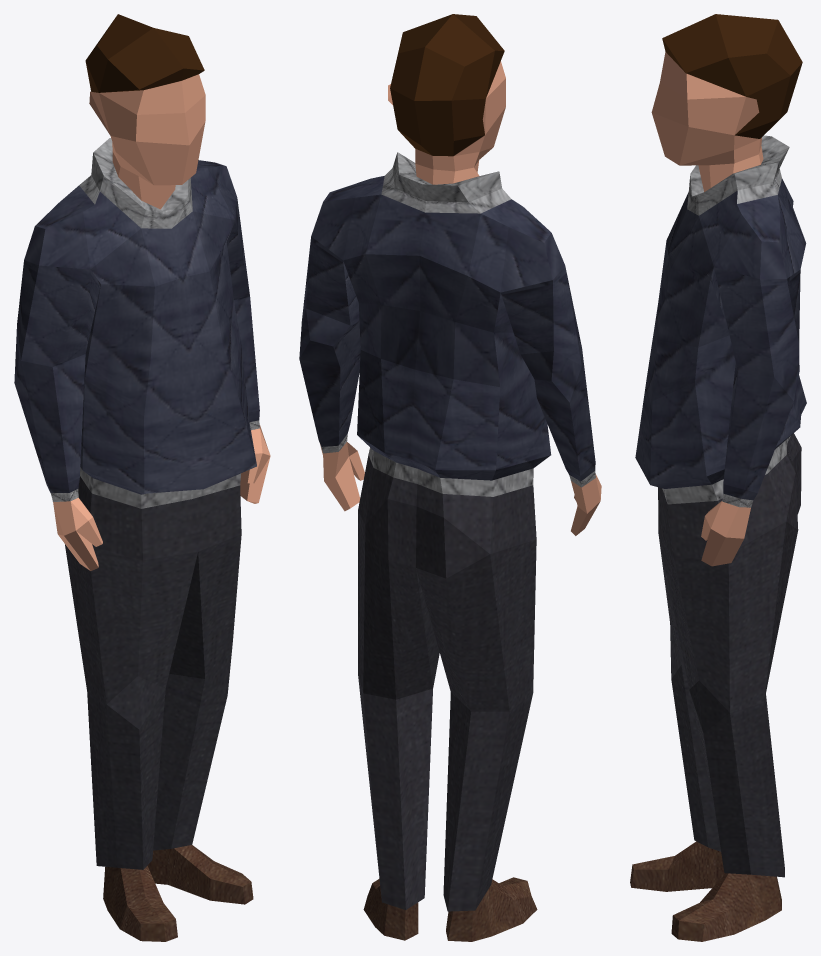
File: AutumnBoy.010.glb
3 renders of one model, left to right at view 1: azimuth 30°, elevation 25°; view 2: azimuth 150°, elevation 25°; view 3: azimuth 270°, elevation 25°, orthographic. The views are drawn at different scales.
Parts seen in each view (by area): view 1: AutumnBoy.010; view 2: AutumnBoy.010; view 3: AutumnBoy.010.
Boxes of the visible parts, x1=… form: AutumnBoy.010: x1=14, y1=14, x2=270, y2=941; AutumnBoy.010: x1=299, y1=14, x2=601, y2=941; AutumnBoy.010: x1=630, y1=14, x2=806, y2=941.
Size of the model in its own units: 0.4543 by 1.54 by 0.2796.
1 material, 1 textured.
